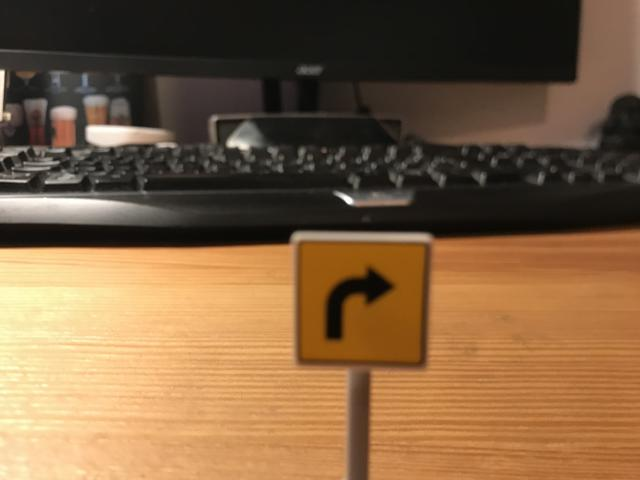fahrtrichtung rechts: (293, 234, 433, 365)
